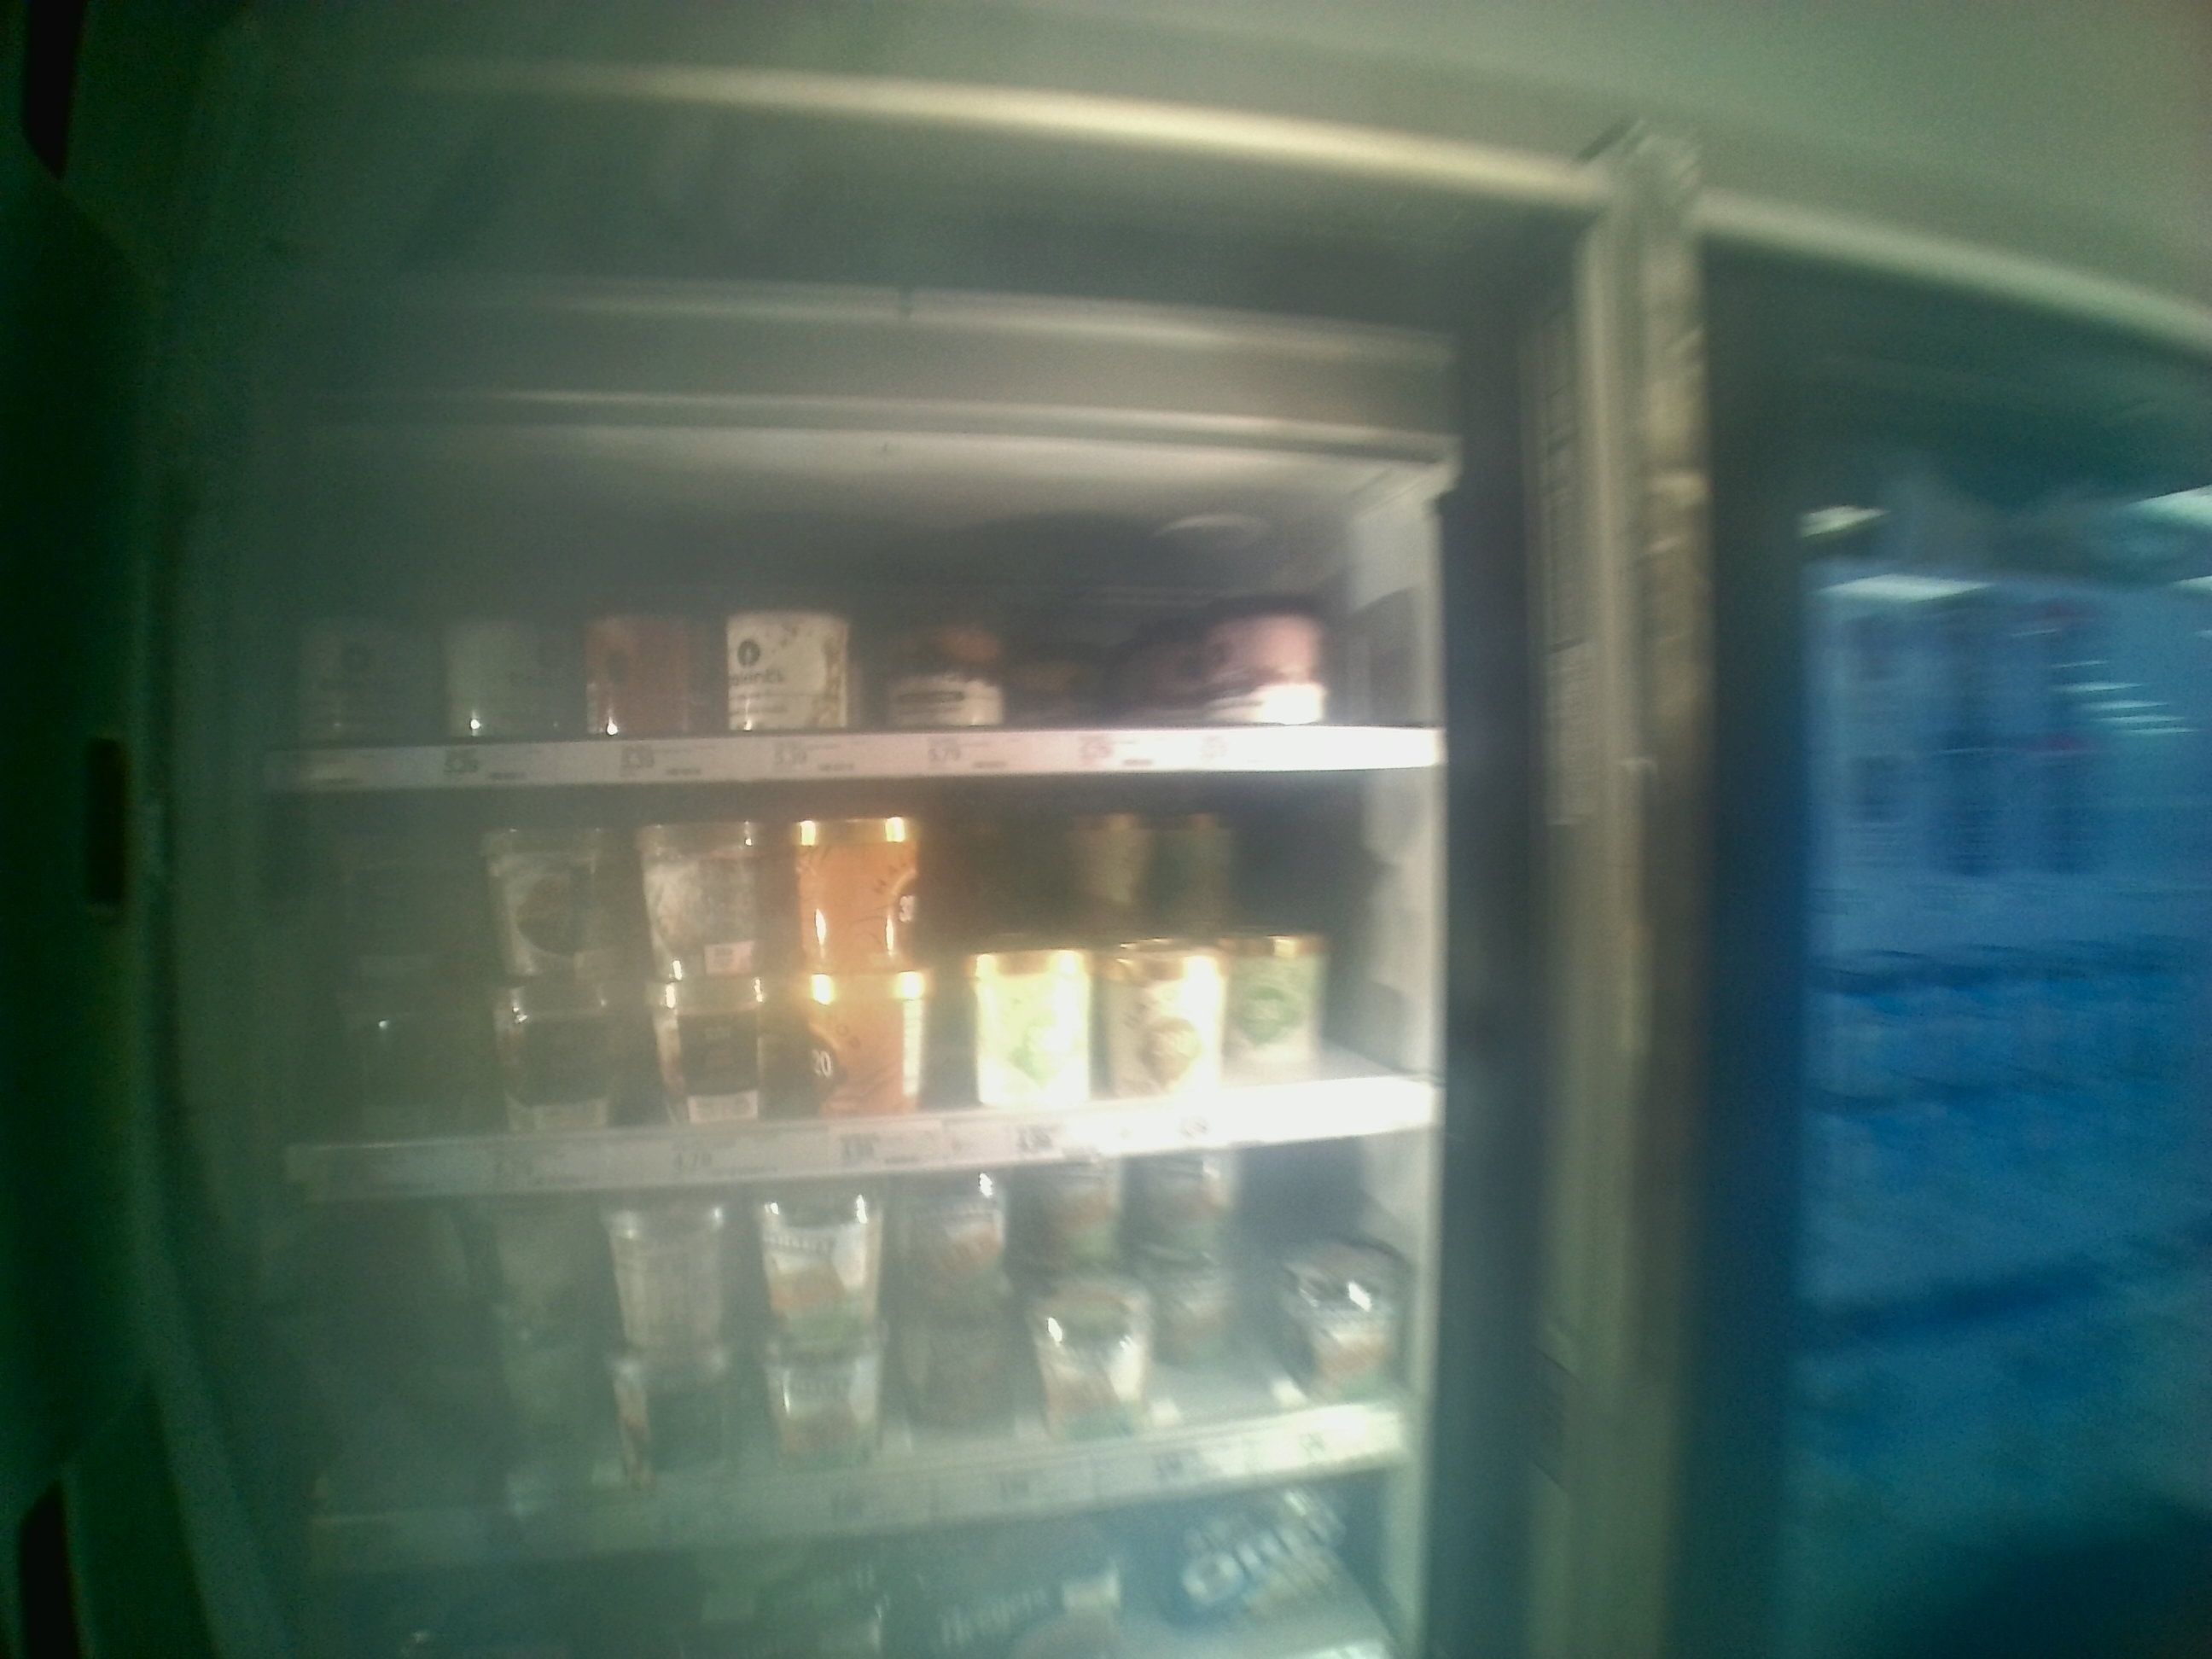shelf: (296, 1127, 1433, 1584), (258, 788, 1453, 1199), (258, 448, 1444, 788)
